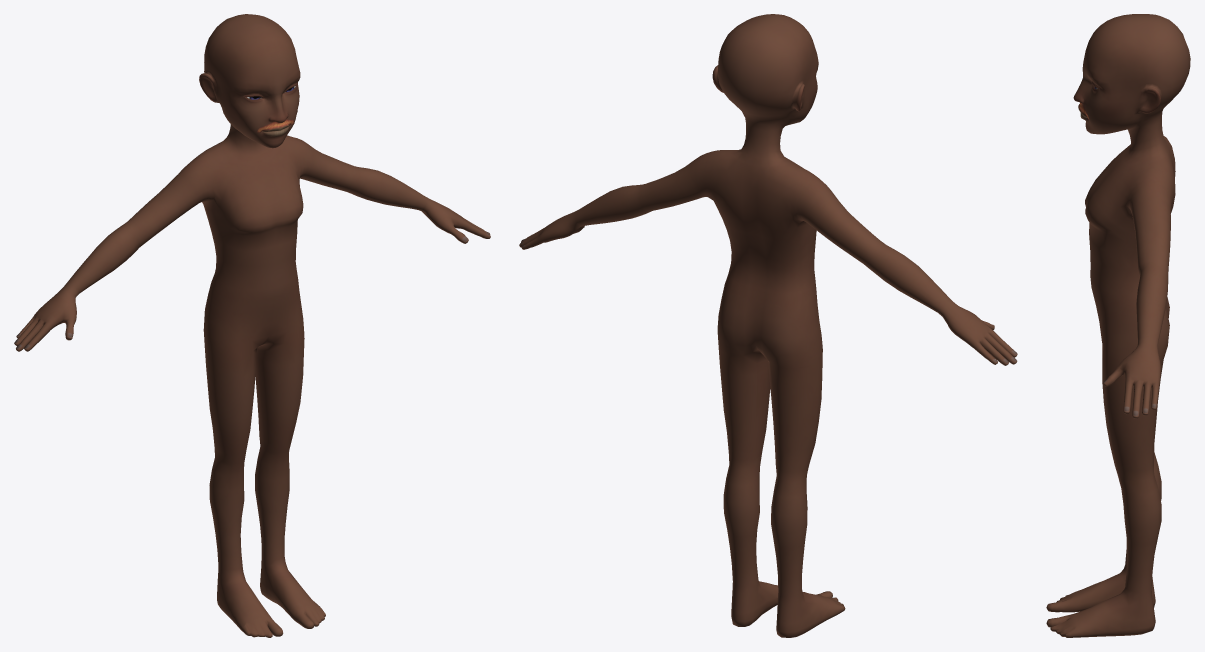
Rendered from frame_0004.glb.
3 views of the same model, side by side, from view 1: azimuth 30°, elevation 25°; view 2: azimuth 150°, elevation 25°; view 3: azimuth 270°, elevation 25° (orthographic). The views are drawn at different scales.
Visible parts, largest first — view 1: frame_0004_head_geo; view 2: frame_0004_head_geo; view 3: frame_0004_head_geo.
Part boxes in pixels (x1,y1,x2,y2): frame_0004_head_geo: (14, 14, 490, 637); frame_0004_head_geo: (519, 14, 1017, 637); frame_0004_head_geo: (1046, 14, 1190, 637).
Bounding box in the file's own units: 1.28 × 1.5 × 0.3253.
3 materials, 3 textured.
